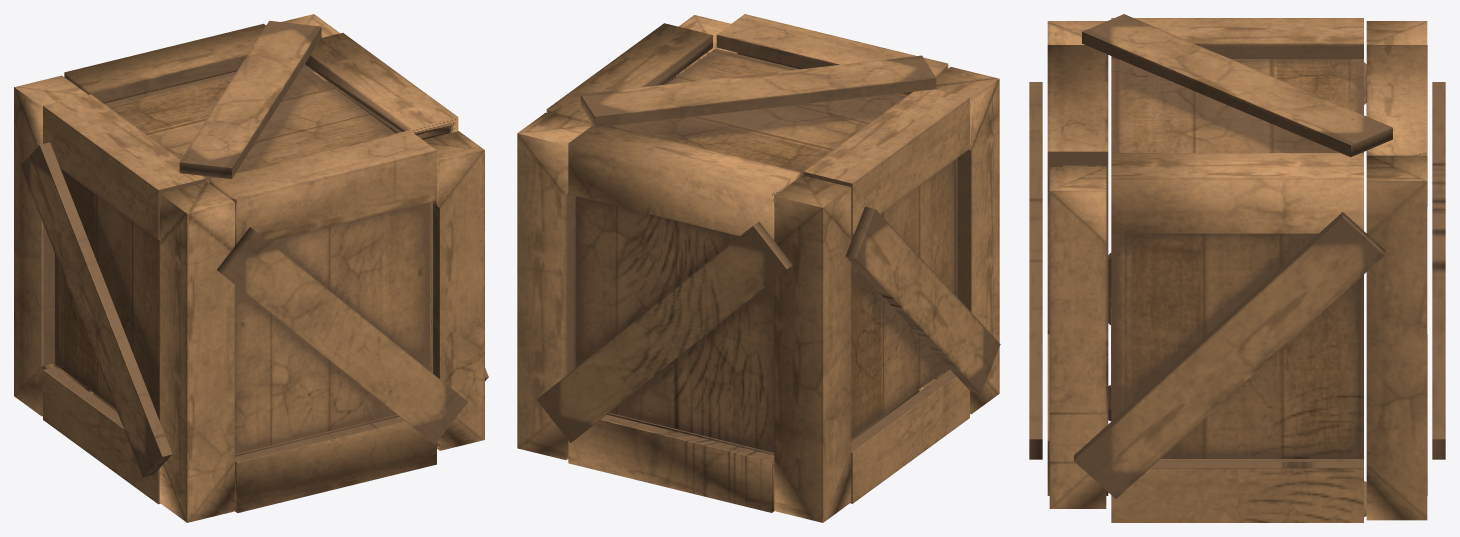
The model's file is wood_box_001_breakable.fbx.
3 views of the same model, side by side, from view 1: azimuth 30°, elevation 25°; view 2: azimuth 150°, elevation 25°; view 3: azimuth 270°, elevation 25° (orthographic). The views are drawn at different scales.
Parts seen in each view (by area): view 1: wood_box_1.020, wood_box_1.004, wood_box_1.017, wood_box_1.008, wood_box_1.003, wood_box_1.021, wood_box_1.023, wood_box_1.019, wood_box_1.006, wood_box_1.005, wood_box_1.013, wood_box_1.016 (+5 smaller); view 2: wood_box_1.001, wood_box_1.005, wood_box_1.002, wood_box_1.015, wood_box_1.009, wood_box_1.021, wood_box_1.023, wood_box_1.016, wood_box_1.006, wood_box_1.012, wood_box_1.004, wood_box_1.019 (+5 smaller); view 3: wood_box_1.024, wood_box_1.018, wood_box_1.002, wood_box_1.010, wood_box_1.003, wood_box_1.023, wood_box_1.011, wood_box_1.016, wood_box_1.008, wood_box_1.006, wood_box_1.009, wood_box_1.015 (+5 smaller).
Boxes of the visible parts, x1,y1,x2,y2 form: wood_box_1.020: [235, 202, 429, 454]; wood_box_1.004: [159, 182, 234, 522]; wood_box_1.017: [217, 227, 467, 444]; wood_box_1.008: [210, 130, 436, 245]; wood_box_1.003: [423, 131, 484, 450]; wood_box_1.021: [55, 169, 159, 420]; wood_box_1.023: [104, 66, 395, 183]; wood_box_1.019: [20, 142, 172, 477]; wood_box_1.006: [43, 94, 205, 240]; wood_box_1.005: [14, 75, 89, 416]; wood_box_1.013: [235, 417, 436, 513]; wood_box_1.016: [179, 20, 321, 178]; wood_box_1.001: [575, 196, 774, 452]; wood_box_1.005: [774, 175, 851, 522]; wood_box_1.002: [517, 112, 592, 459]; wood_box_1.015: [536, 221, 792, 442]; wood_box_1.009: [568, 125, 799, 240]; wood_box_1.021: [851, 158, 957, 438]; wood_box_1.023: [611, 48, 907, 176]; wood_box_1.016: [580, 55, 936, 127]; wood_box_1.006: [803, 89, 969, 234]; wood_box_1.012: [568, 414, 774, 512]; wood_box_1.004: [922, 67, 999, 414]; wood_box_1.019: [845, 206, 1000, 393]; wood_box_1.024: [1111, 233, 1363, 458]; wood_box_1.018: [1074, 212, 1384, 498]; wood_box_1.002: [1366, 155, 1427, 520]; wood_box_1.010: [1111, 153, 1363, 233]; wood_box_1.003: [1049, 167, 1106, 508]; wood_box_1.023: [1111, 59, 1363, 152]; wood_box_1.011: [1111, 461, 1363, 522]; wood_box_1.016: [1082, 14, 1392, 156]; wood_box_1.008: [1047, 45, 1108, 206]; wood_box_1.006: [1111, 18, 1363, 58]; wood_box_1.009: [1367, 45, 1427, 206]; wood_box_1.015: [1432, 82, 1445, 459].
Size of the model in its own units: 93.31 by 93.95 by 93.88.
